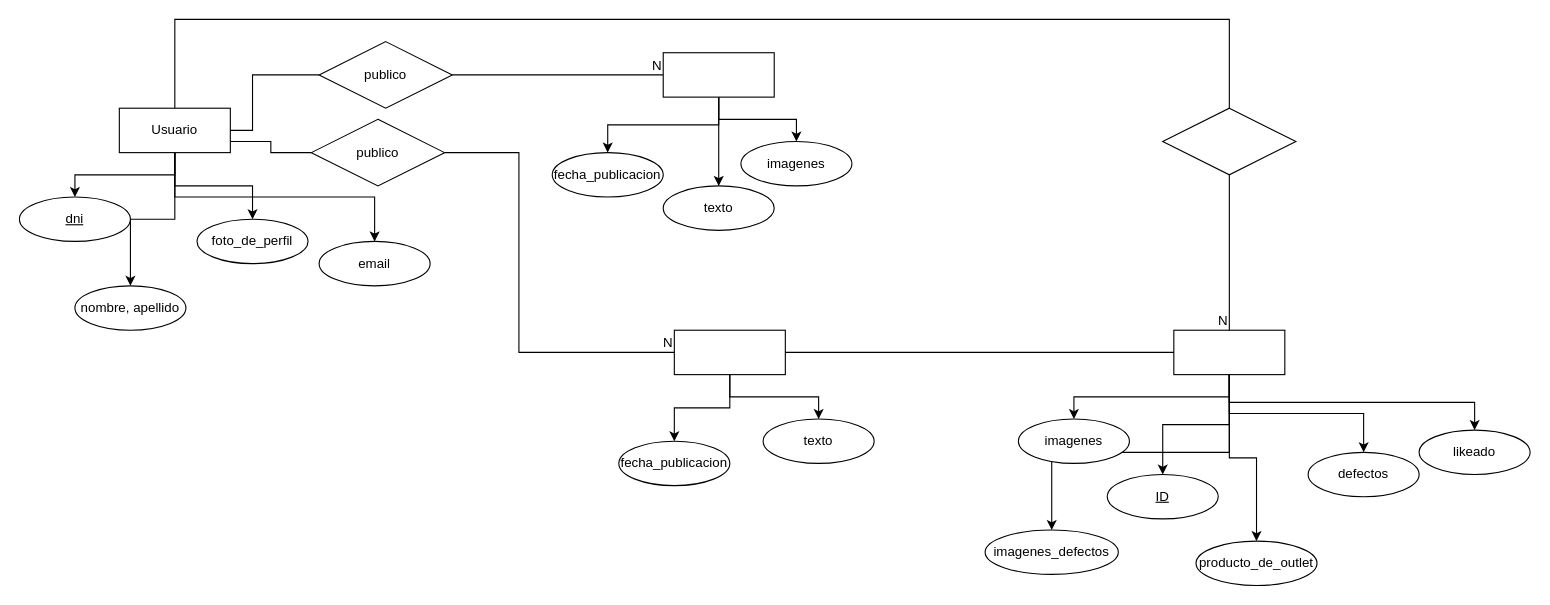
Some shapes in this 1550 by 605 pixel diagram are drawn without their labels. The centre of each missing label's shape, as x and y in pixels:
likeado?: [1229,141]
Producto: [1229,352]
Publicaciones: [729,352]
Reseñas: [718,74]
